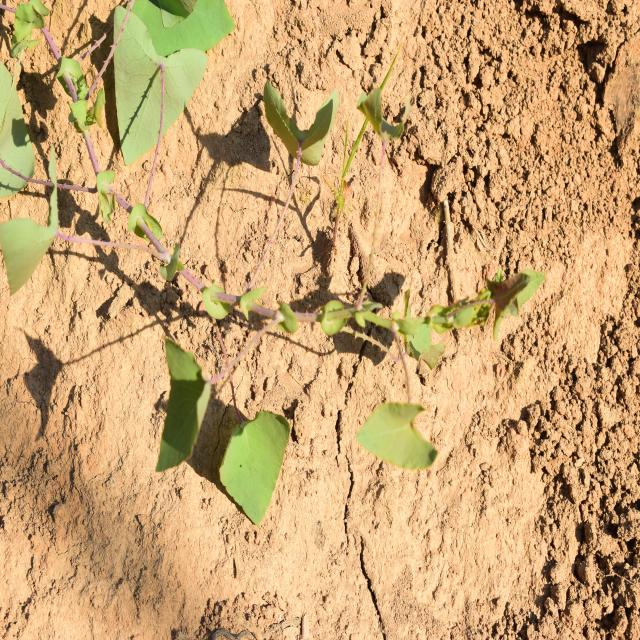Asiatic_Smartweed: (334, 218, 536, 473), (154, 322, 295, 526), (89, 0, 228, 180)
